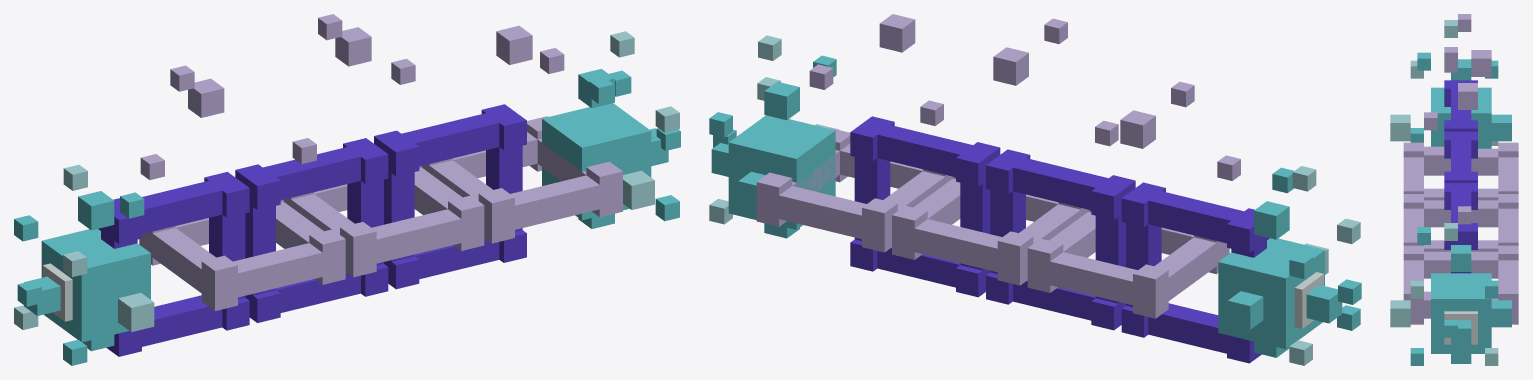
Rendered from fx_soulchain.glb.
3 renders of one model, left to right at view 1: azimuth 30°, elevation 25°; view 2: azimuth 150°, elevation 25°; view 3: azimuth 270°, elevation 25°, orthographic. The views are drawn at different scales.
Parts seen in each view (by area): view 1: cap_start, link_05, link_03, cap_end, link_01, link_02, link_06, link_04, motes; view 2: cap_start, cap_end, link_05, link_03, link_01, link_02, link_06, link_04, motes; view 3: cap_end, cap_start, link_06, link_04, link_02, motes, link_03, link_05, link_01.
Part boxes in pixels (bbox=[...]): cap_start: bbox=[14, 164, 154, 365]; link_05: bbox=[374, 104, 526, 289]; link_03: bbox=[235, 138, 388, 322]; cap_end: bbox=[542, 31, 680, 228]; link_01: bbox=[98, 172, 249, 356]; link_02: bbox=[139, 199, 345, 310]; link_06: bbox=[422, 116, 622, 243]; link_04: bbox=[283, 166, 484, 277]; motes: bbox=[140, 14, 564, 179]; cap_start: bbox=[1218, 166, 1361, 365]; cap_end: bbox=[709, 35, 838, 238]; link_05: bbox=[850, 116, 1000, 297]; link_03: bbox=[986, 149, 1135, 330]; link_01: bbox=[1121, 182, 1269, 363]; link_02: bbox=[1027, 210, 1229, 318]; link_06: bbox=[756, 128, 952, 252]; link_04: bbox=[892, 176, 1088, 285]; motes: bbox=[809, 14, 1240, 180]; cap_end: bbox=[1390, 223, 1511, 365]; cap_start: bbox=[1390, 20, 1511, 148]; link_06: bbox=[1403, 245, 1518, 324]; link_04: bbox=[1403, 194, 1518, 251]; link_02: bbox=[1403, 142, 1518, 200]; motes: bbox=[1424, 14, 1498, 224]; link_03: bbox=[1444, 131, 1477, 182]; link_05: bbox=[1444, 183, 1477, 273]; link_01: bbox=[1444, 80, 1477, 131].
Size of the model in its own units: 10.62 by 4.38 by 2.38.
